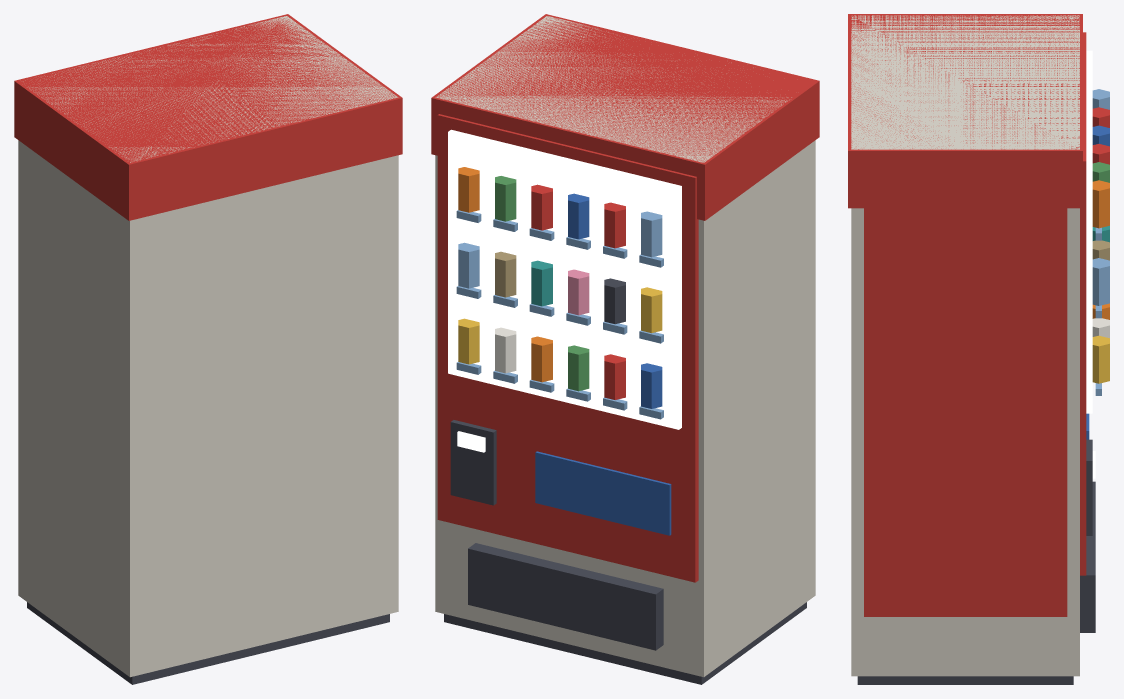
The model's file is vending_machine.glb.
3 views of the same model, side by side, from view 1: azimuth 30°, elevation 25°; view 2: azimuth 150°, elevation 25°; view 3: azimuth 270°, elevation 25° (orthographic). The views are drawn at different scales.
Parts seen in each view (by area): view 1: vending_machine; view 2: vending_machine; view 3: vending_machine.
Part boxes in pixels (x1,y1,x2,y2): vending_machine: [14, 14, 402, 684]; vending_machine: [431, 14, 819, 684]; vending_machine: [848, 14, 1109, 684].
Size of the model in its own units: 1.02 by 1.87 by 0.8246.
